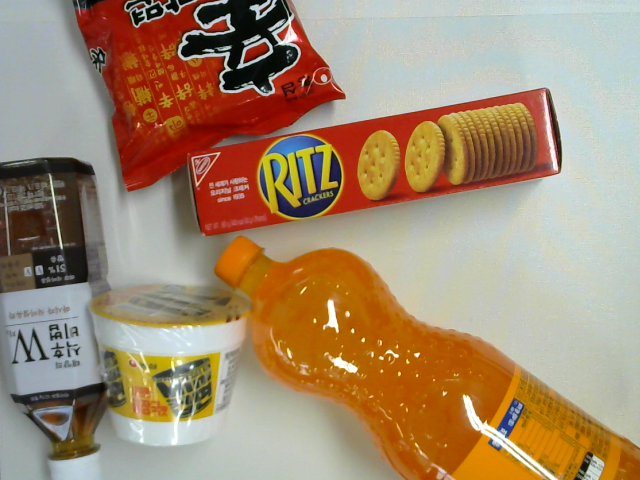Hejangmini: (87, 285, 252, 448)
Hwanta_Orange_1.5L: (215, 235, 640, 479)
Post-meal_recipe_W_tea_500ml: (1, 158, 110, 478)
Ritz_Cracker: (191, 87, 565, 235)
Sinramen: (74, 1, 346, 192)
